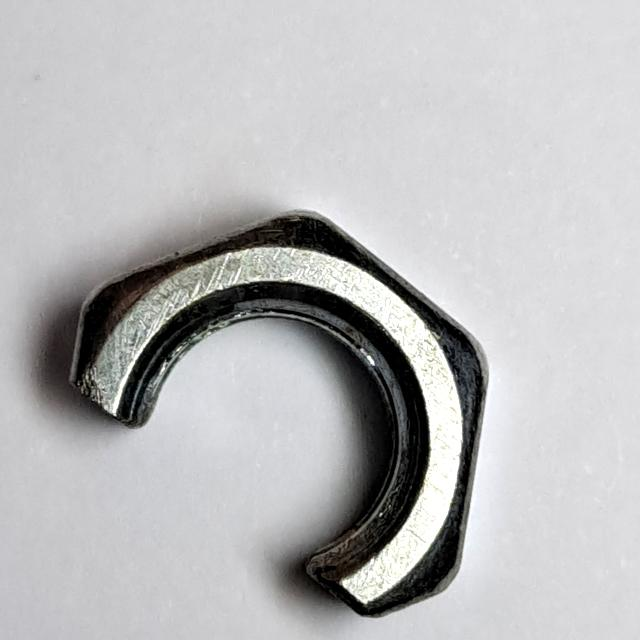Fracture: (62, 201, 499, 628)
